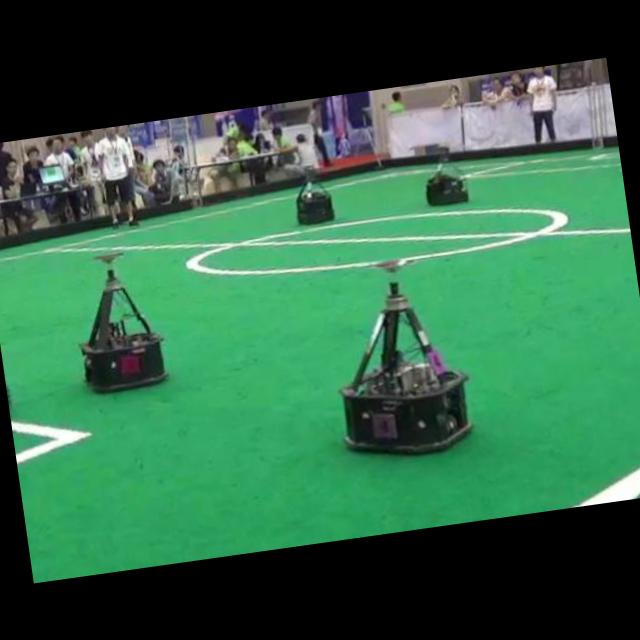robot: (340, 282, 469, 452), (82, 269, 165, 390), (426, 146, 467, 205), (297, 165, 335, 222)
